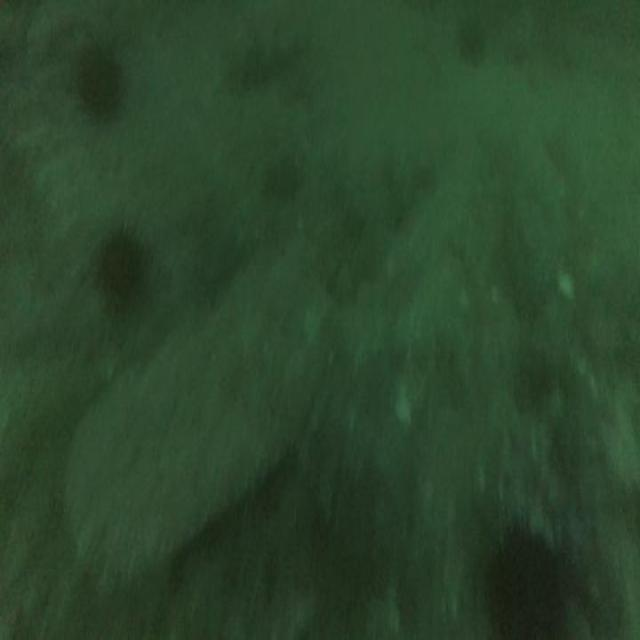echinus: (483, 505, 569, 640), (94, 215, 150, 319), (71, 35, 125, 123)
